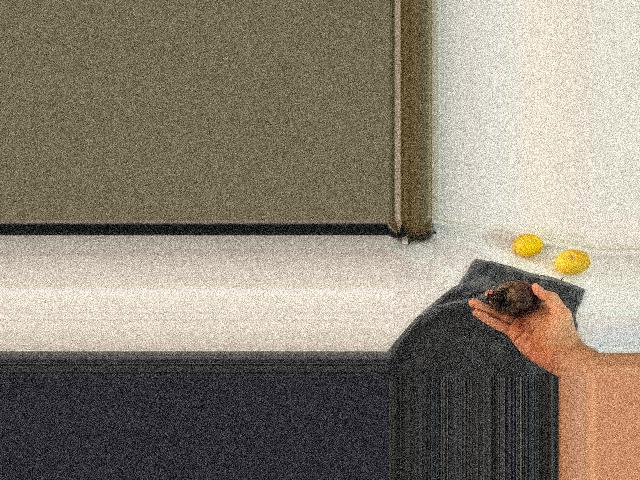beet: (487, 277, 563, 316)
